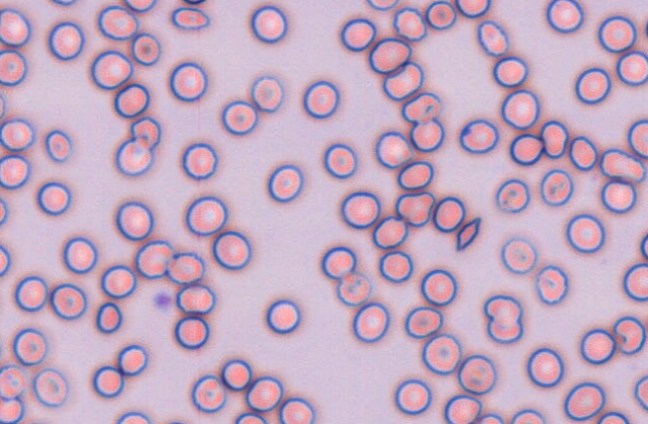PLT: (152, 292, 172, 312)
RBC: (483, 294, 523, 343), (185, 195, 228, 236), (90, 49, 133, 89), (421, 333, 461, 375), (382, 61, 423, 101), (563, 381, 605, 420), (599, 148, 645, 183), (134, 239, 174, 279), (565, 213, 605, 253), (457, 354, 496, 395), (368, 37, 411, 74), (374, 130, 414, 169), (340, 190, 380, 229), (212, 230, 251, 270), (500, 89, 539, 129), (526, 347, 564, 387), (115, 200, 153, 240), (169, 61, 207, 101), (352, 301, 389, 342), (115, 137, 153, 176), (97, 4, 138, 40), (49, 282, 87, 320), (598, 15, 636, 53), (302, 79, 339, 118), (32, 367, 68, 407), (458, 118, 499, 153), (245, 375, 283, 412), (420, 268, 457, 306), (393, 378, 431, 415), (181, 142, 218, 180), (250, 5, 287, 43), (395, 191, 434, 227), (48, 21, 84, 60), (267, 163, 303, 202), (574, 67, 611, 104), (191, 374, 226, 413), (534, 264, 568, 304), (500, 237, 536, 274), (221, 99, 258, 135), (12, 327, 47, 365), (404, 305, 443, 339), (580, 328, 616, 364), (113, 82, 149, 118), (166, 251, 204, 285), (539, 168, 573, 206), (401, 91, 441, 123), (175, 283, 215, 315), (335, 271, 371, 306), (494, 178, 530, 213), (100, 264, 137, 298), (63, 236, 97, 273), (250, 74, 283, 112), (409, 117, 444, 152), (392, 6, 427, 41), (14, 275, 48, 311), (600, 179, 636, 213), (340, 17, 376, 51), (323, 142, 357, 178), (546, 0, 583, 33), (0, 7, 30, 47), (372, 215, 407, 249), (0, 117, 35, 151), (265, 299, 300, 333), (36, 181, 71, 215), (320, 246, 356, 279), (432, 196, 465, 232), (476, 20, 509, 56), (378, 250, 413, 283), (174, 316, 209, 349), (492, 56, 528, 87), (443, 394, 481, 423), (540, 119, 568, 158), (509, 133, 543, 165), (616, 50, 647, 85), (397, 160, 433, 190), (0, 154, 30, 189), (568, 135, 598, 170), (92, 365, 124, 397), (129, 116, 160, 149), (130, 32, 160, 66), (622, 262, 648, 301), (0, 49, 27, 86), (221, 358, 252, 390), (278, 397, 315, 423), (117, 344, 148, 375), (0, 364, 27, 399), (44, 129, 72, 162), (171, 6, 209, 30), (425, 0, 456, 29), (95, 301, 122, 333), (627, 119, 648, 158), (0, 396, 24, 423), (455, 0, 490, 18), (509, 408, 545, 423), (634, 374, 647, 411), (116, 411, 151, 423), (596, 411, 630, 423), (122, 0, 156, 12), (234, 411, 267, 423), (0, 243, 11, 276), (365, 0, 399, 10), (474, 412, 504, 423), (0, 196, 8, 225), (640, 231, 648, 260), (49, 0, 78, 6), (0, 92, 5, 120), (180, 0, 207, 5), (0, 331, 4, 361), (163, 420, 188, 424), (644, 17, 648, 39)
Schistocyte: (614, 317, 648, 355), (458, 217, 479, 250)
